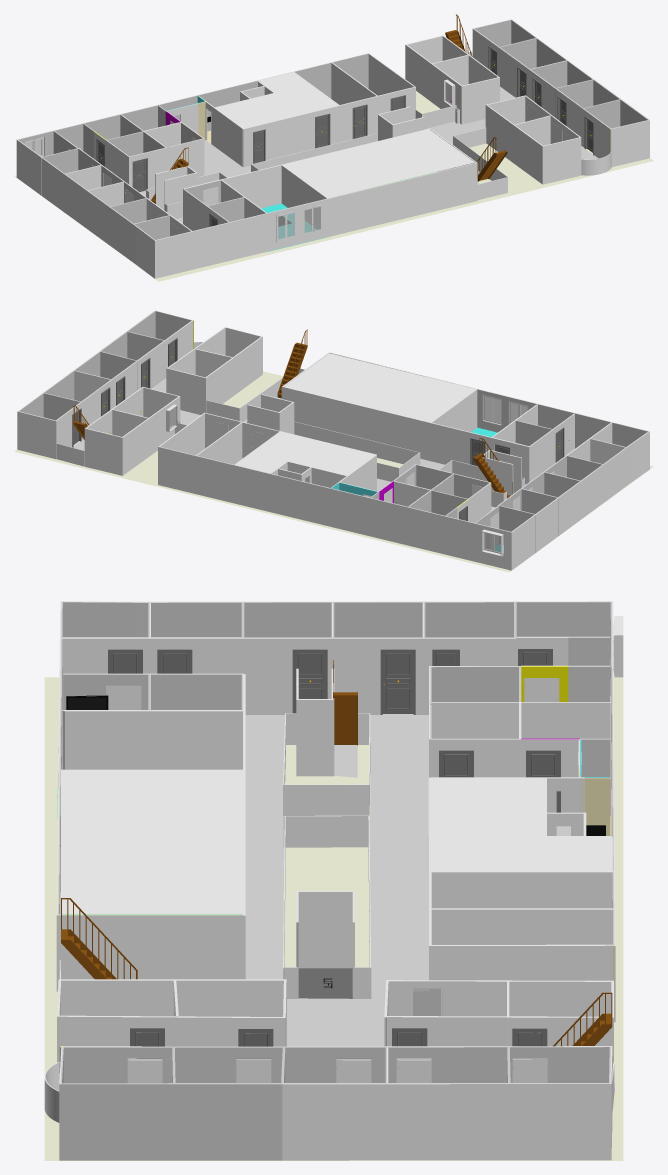
File: 3rd floor.obj
3 renders of one model, top to bottom at view 1: azimuth 30°, elevation 25°; view 2: azimuth 150°, elevation 25°; view 3: azimuth 270°, elevation 25°, orthographic. The views are drawn at different scales.
Parts seen in each view (by area): view 1: wall_1_5, room_155_747, ground_1, wall_79_442, wall_100_569, wall_73_406, wall_107_610, room_156_748, wall_67_370, room_152_742, room_153_744, wall_76_424 (+56 smaller); view 2: wall_100_568, wall_52_280, room_155_747, wall_115_658, wall_79_442, ground_1, wall_1_4, wall_73_406, wall_67_370, room_152_742, wall_60_329, room_153_744 (+50 smaller); view 3: room_156_748, room_155_747, wall_79_443, ground_1, wall_51_274, wall_87_490, wall_89_502, wall_88_496, wall_85_478, wall_73_407, wall_86_484, wall_67_371 (+45 smaller).
Boxes of the visible parts, x1,y1,x2,y2 form: wall_1_5: (155,163,477,278); room_155_747: (283,129,474,198); ground_1: (14,87,653,281); wall_79_442: (472,29,611,158); wall_100_569: (18,81,256,156); wall_73_406: (485,105,542,184); wall_107_610: (275,106,339,157); room_156_748: (140,87,597,223); wall_67_370: (405,45,461,124); room_152_742: (216,93,302,129); room_153_744: (258,72,337,113); wall_76_424: (542,137,581,184); wall_100_568: (271,474,511,570); wall_52_280: (281,387,529,484); room_155_747: (284,353,475,422); wall_115_658: (158,447,271,512); wall_79_442: (56,321,192,458); ground_1: (14,371,653,572); wall_1_4: (330,353,647,448); wall_73_406: (206,336,262,412); wall_67_370: (122,396,180,475); room_152_742: (288,440,375,475); wall_60_329: (294,422,418,464); room_153_744: (234,432,314,473); room_156_748: (245,714,570,1046); room_155_747: (60,770,242,913); wall_79_443: (60,1047,609,1083); ground_1: (44,677,623,1160); wall_51_274: (56,915,242,991); wall_87_490: (387,1084,509,1160); wall_89_502: (59,1084,174,1160); wall_88_496: (174,1084,282,1160); wall_85_478: (282,1084,386,1160); wall_73_407: (61,980,283,1016); wall_86_484: (509,1084,611,1160); wall_67_371: (388,981,611,1016).
Size of the model in its own units: 3313 by 362 by 1677.
52 materials, 30 textured.
